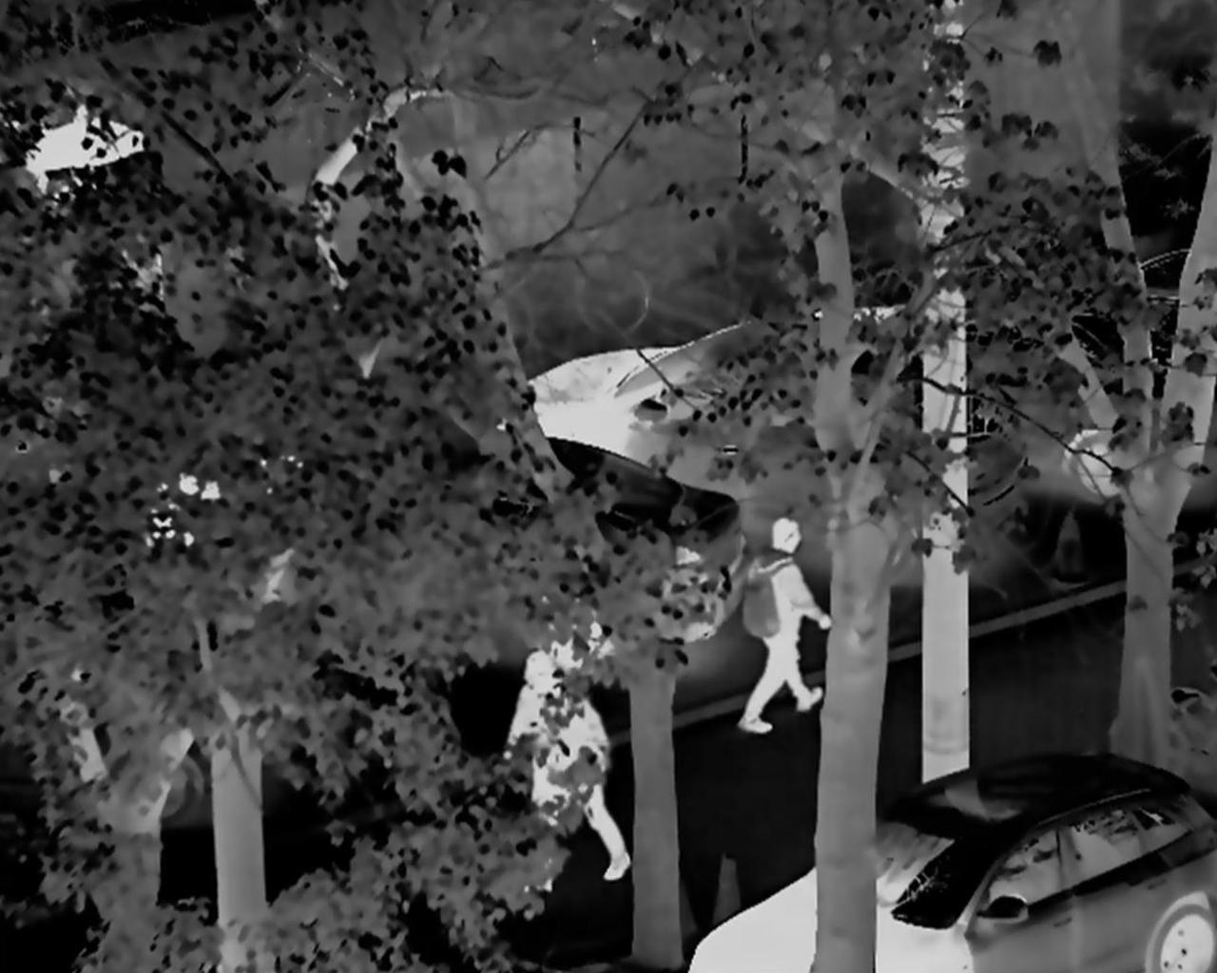person: (739, 513, 836, 744), (560, 645, 638, 883), (498, 658, 568, 871)
